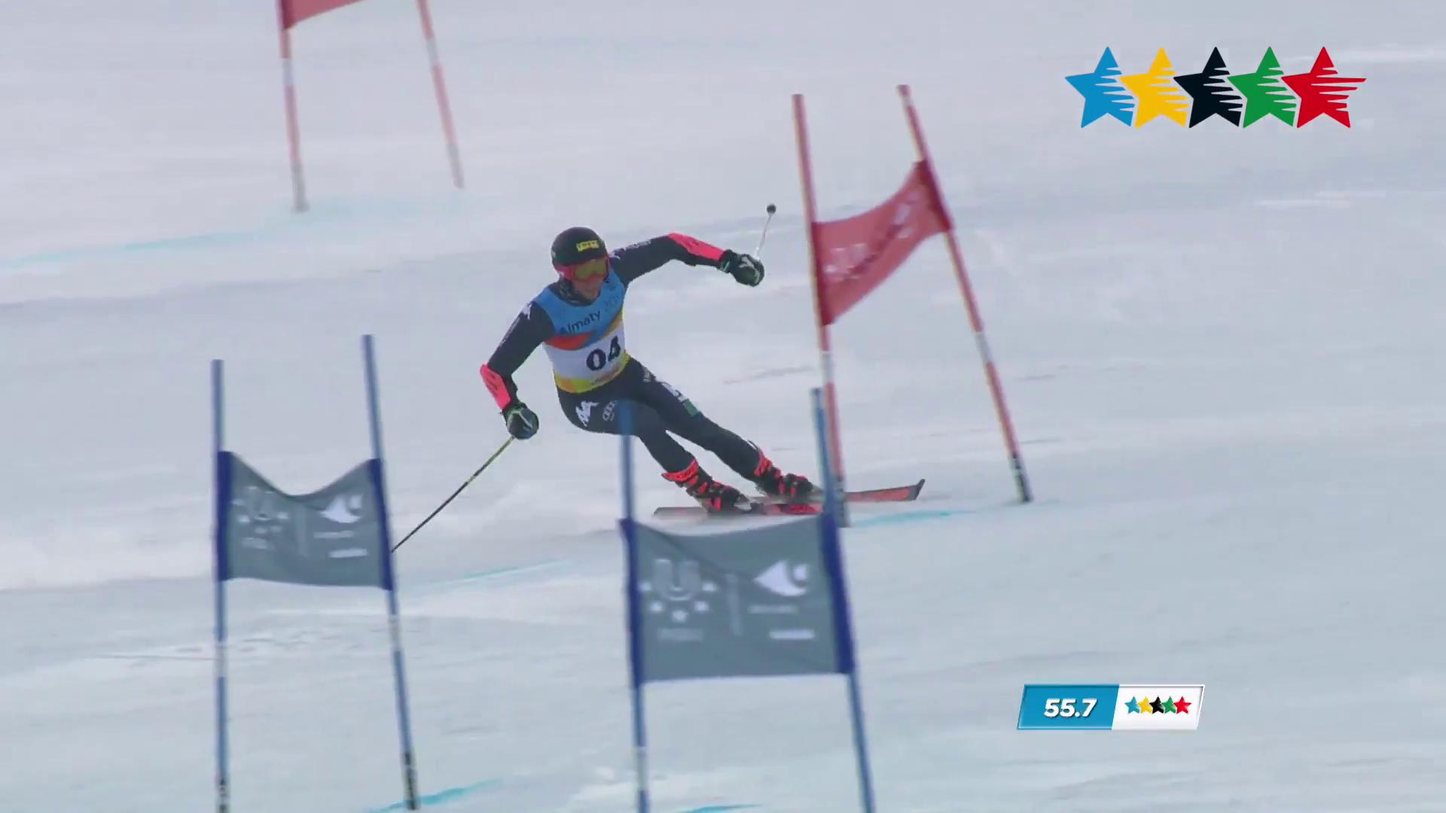gate: (618, 388, 875, 812), (793, 84, 1031, 501), (211, 335, 417, 812), (623, 551, 651, 812), (618, 437, 635, 550)
